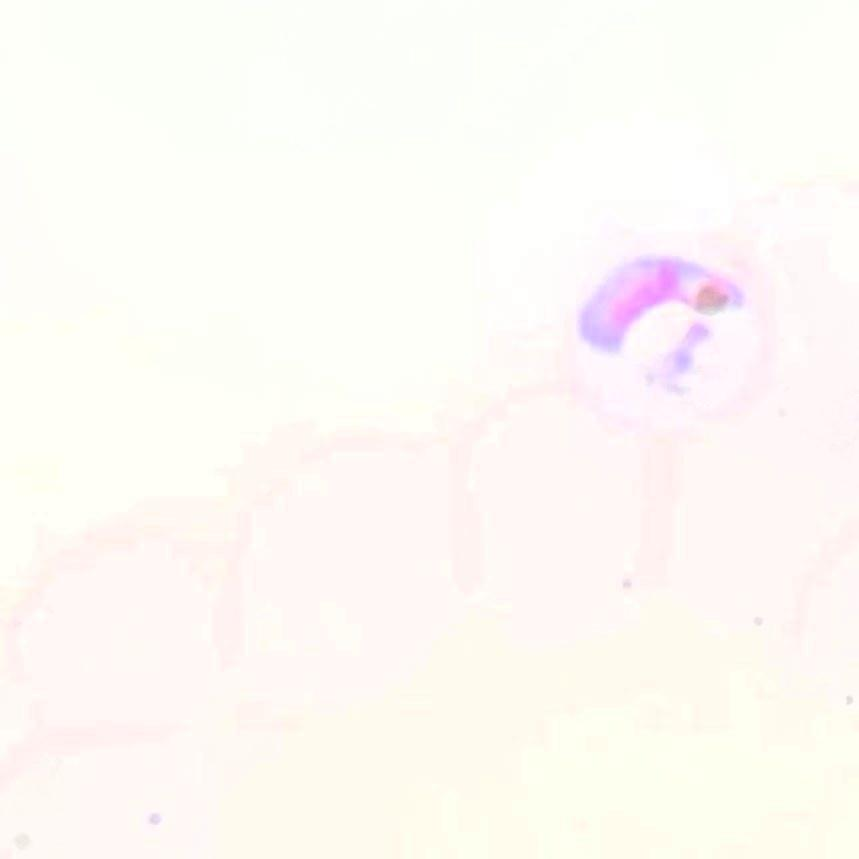Infected: (570, 241, 746, 427)
